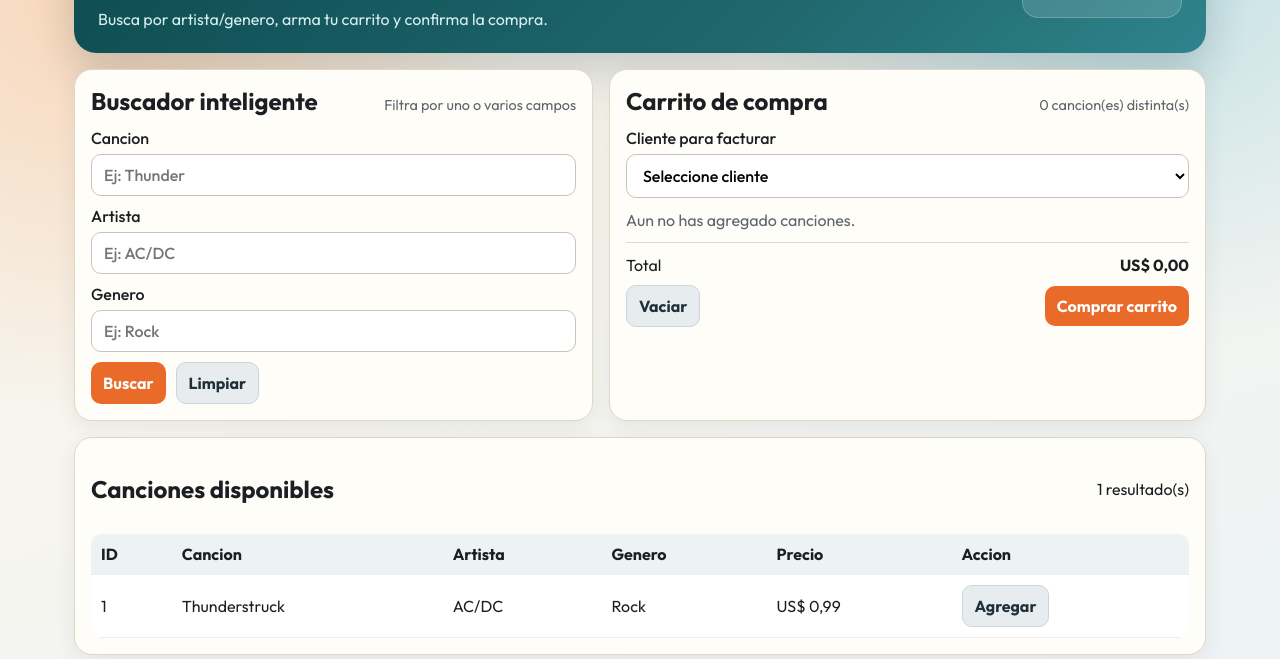
App › agrega cancion al carrito y valida cliente antes de comprar
(page scrolled)
Expected: the text "Thunderstruck" is shown, [172,574,443,637]
Click the button "Agregar".
click(1006, 606)  # box [962,585,1050,627]
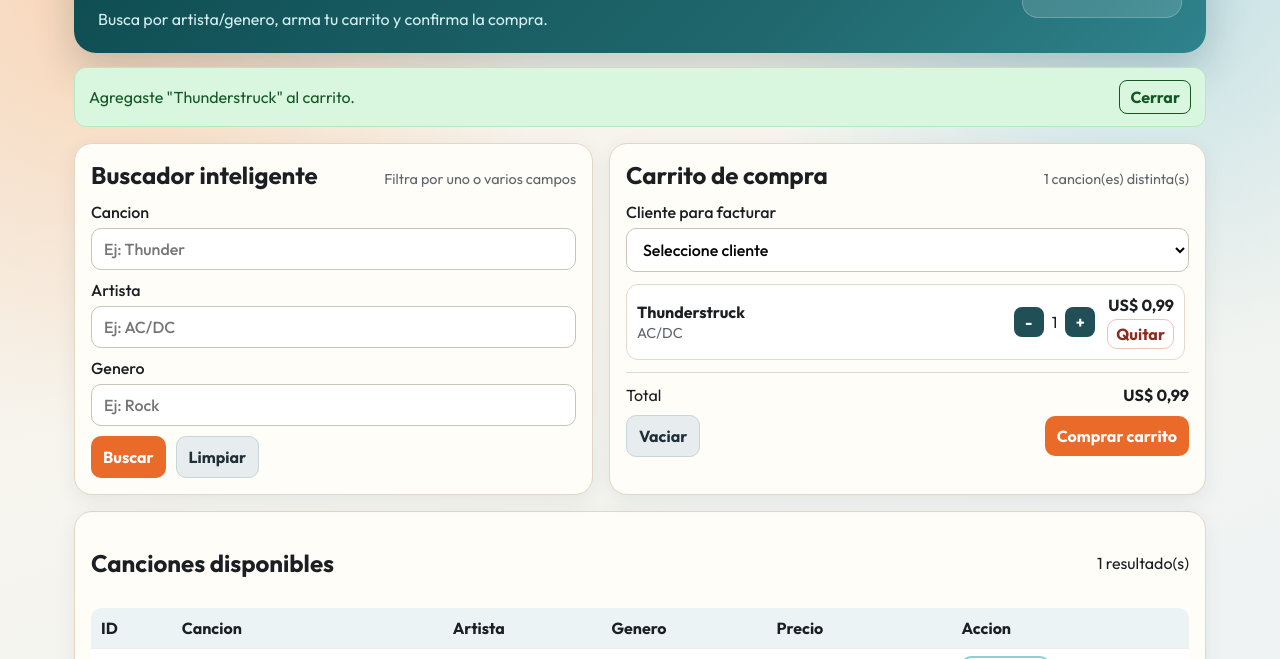
Expected: the text "Thunderstruck" is shown, [637,302,745,322]
Click the button "Comprar carrito".
click(1117, 436)  # box [1045,416,1189,456]
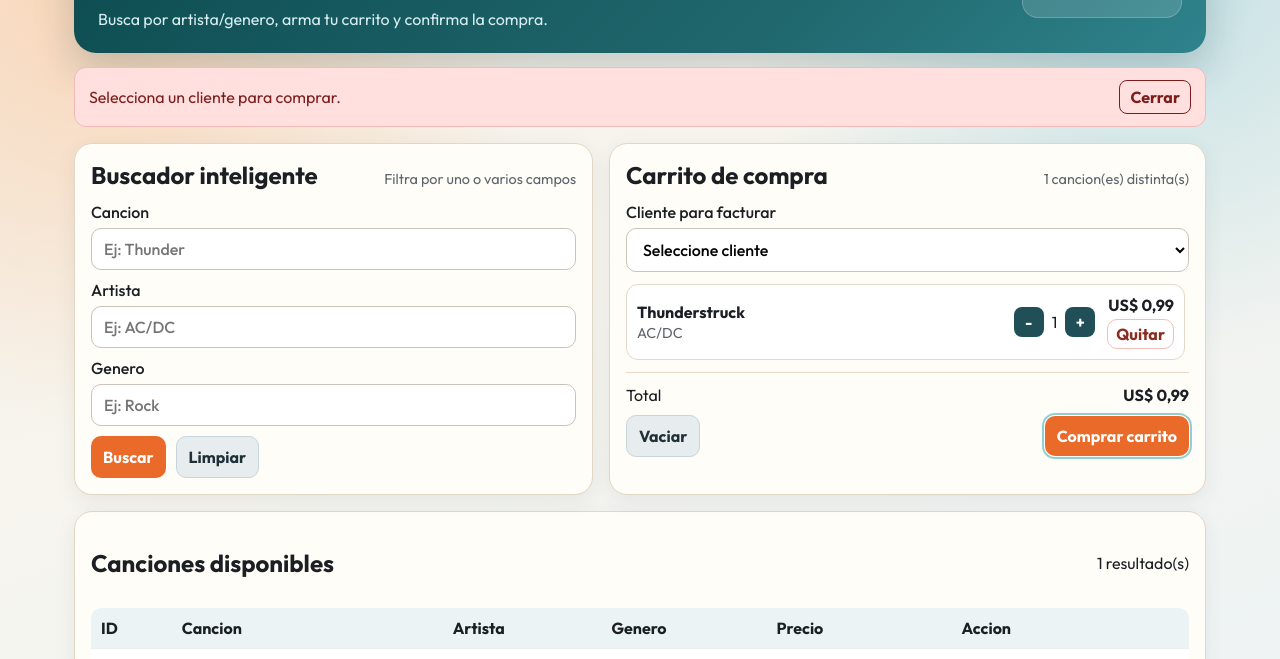
Expected: the text "Selecciona un cliente para comprar." is shown, [89,87,341,107]
